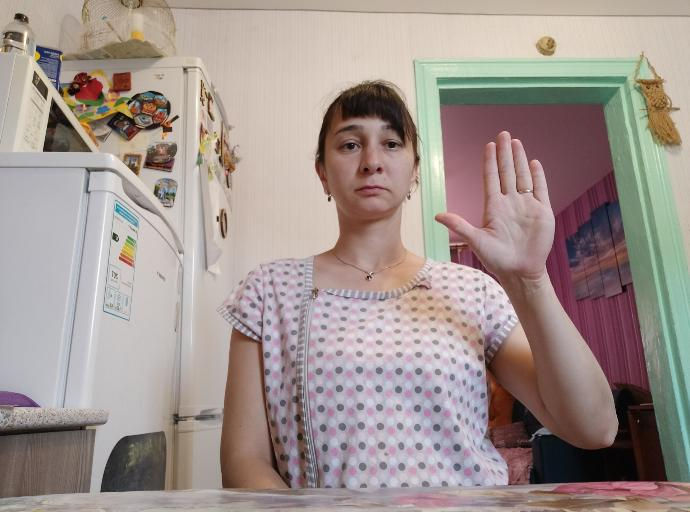stop: (432, 121, 566, 288)
